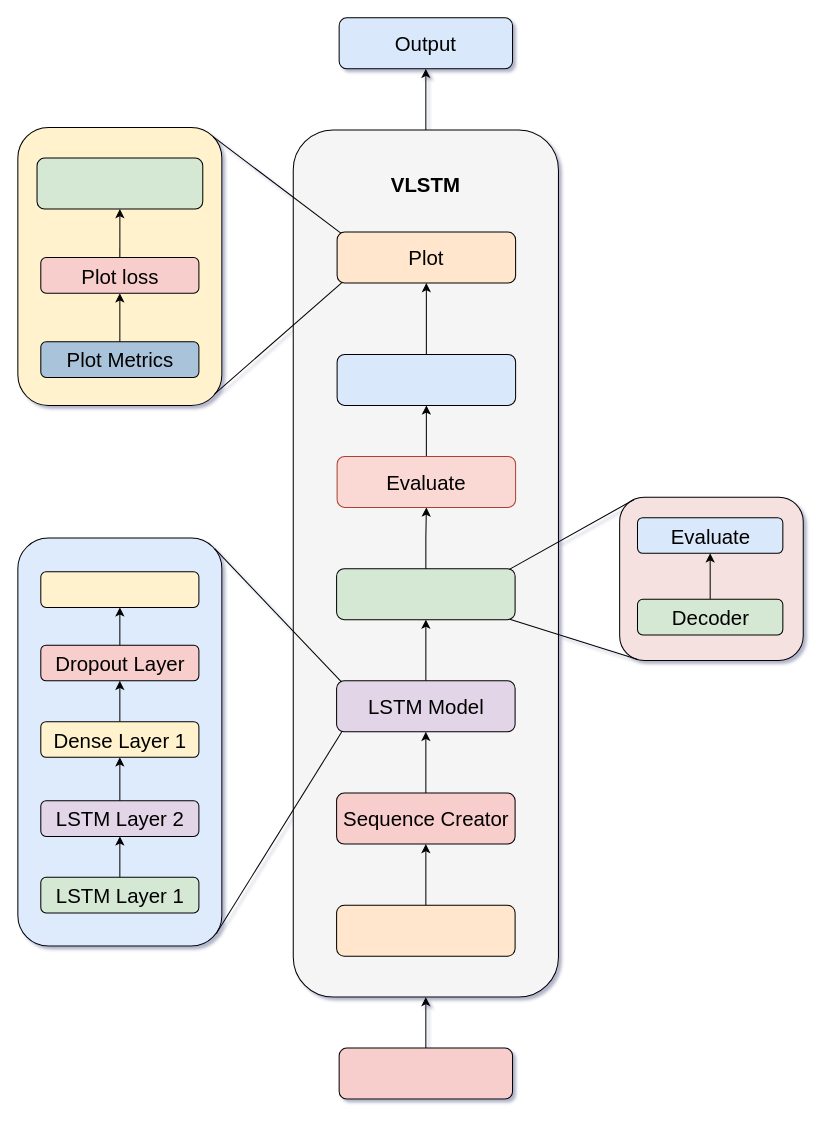
Image size: 827x1123. Some labels were removed from this diagram. Here are the shapes that lost their labels. From the top down, the centre of each, then its label:
(x=119, y=183): Plot Actual vs Pred
(x=426, y=379): Predict
(x=119, y=589): Dense Layer 2
(x=425, y=594): Train
(x=425, y=930): Encoder
(x=425, y=1073): Input
